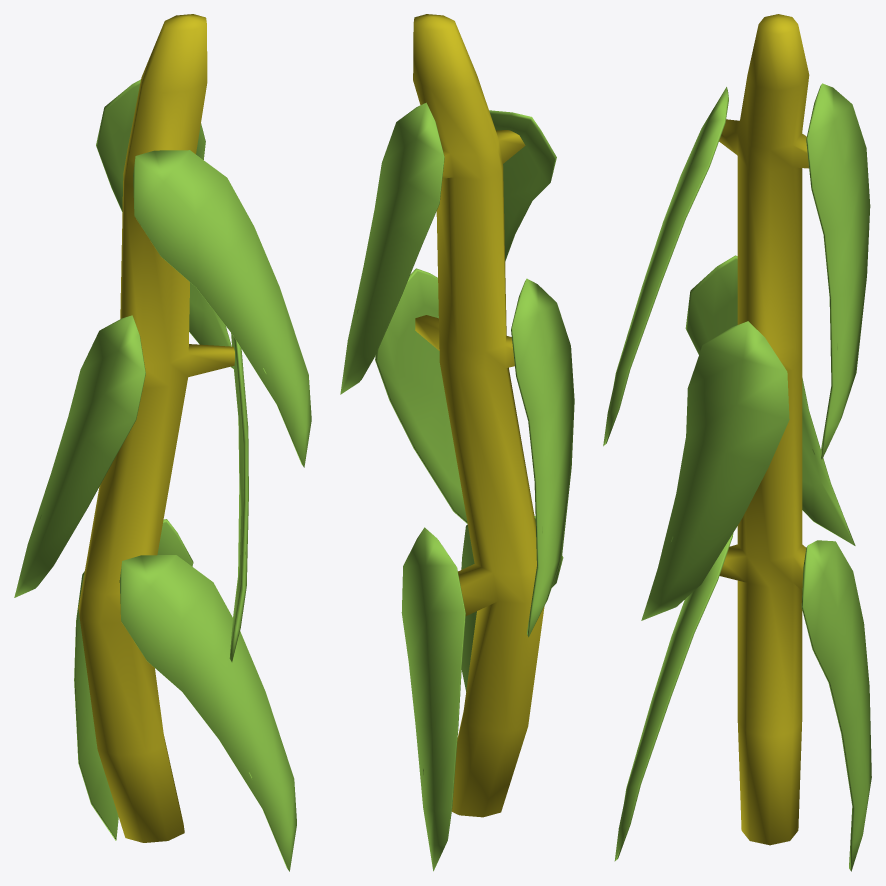
File: eukaliptus.fbx
The picture shows the model from 3 angles, left to right: view 1: azimuth 30°, elevation 25°; view 2: azimuth 150°, elevation 25°; view 3: azimuth 270°, elevation 25°; orthographic projection. The views are drawn at different scales.
Parts seen in each view (by area): view 1: Circle.004; view 2: Circle.004; view 3: Circle.004.
Part boxes in pixels (x1,y1,x2,y2): Circle.004: [14, 14, 311, 871]; Circle.004: [340, 14, 574, 871]; Circle.004: [603, 14, 871, 871].
Size of the model in its own units: 1.29 by 4.87 by 1.36.
